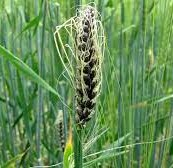Wheat Loose Smut: (70, 5, 102, 126)
